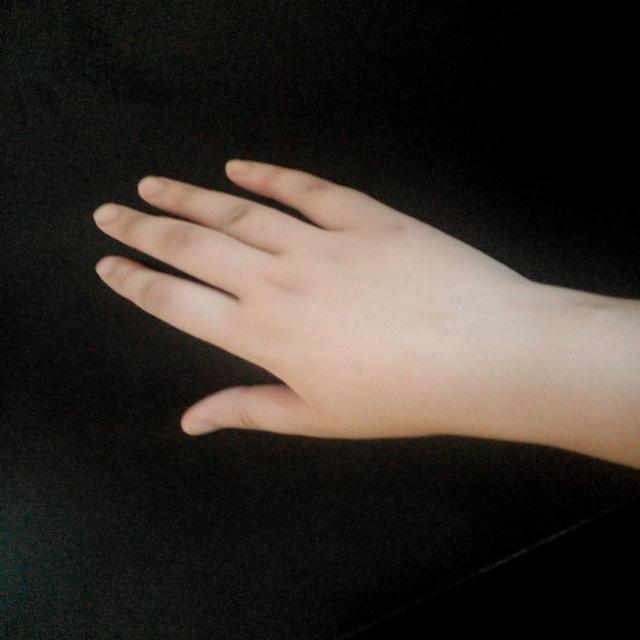Open Hand: (84, 153, 528, 440)
